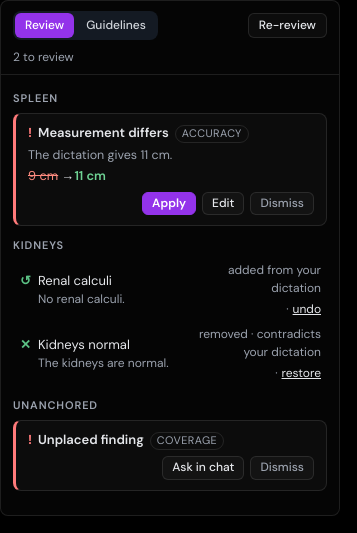
Scenario: ReviewRail › Guidelines tab shows the guidelines snippet
The image size is (357, 533).
Click the tab "Guidelines" at (116, 26), box [76,13,156,38]
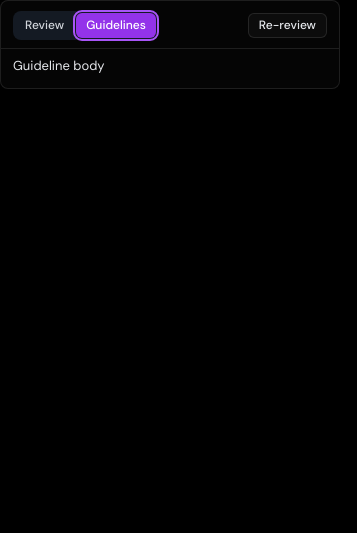
expect the text "Guideline body" is shown: met, box [13,57,104,74]
